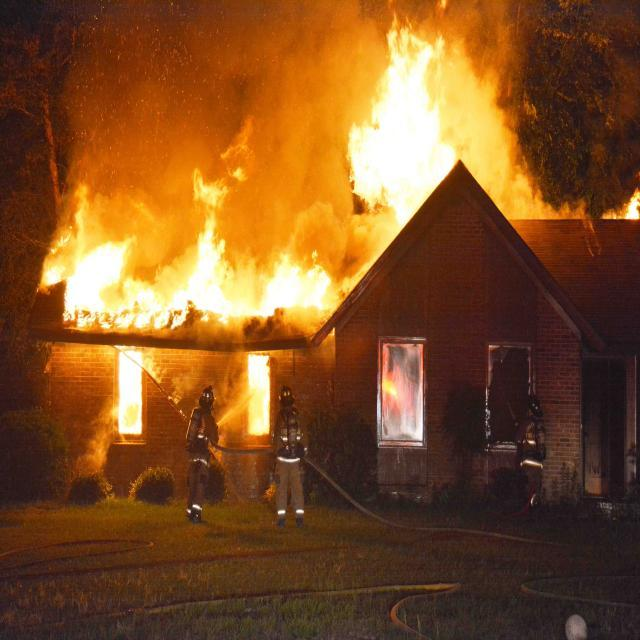Fire: (49, 210, 335, 316), (346, 25, 454, 222), (116, 344, 144, 440), (246, 353, 272, 433)
Smoke: (62, 0, 640, 238)
